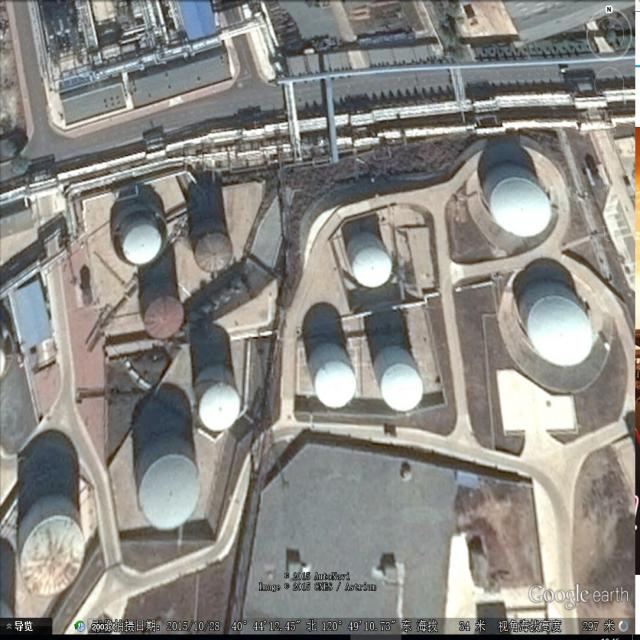oiltank: (513, 274, 598, 372), (13, 492, 88, 599), (133, 432, 204, 536), (476, 162, 556, 242), (368, 341, 428, 417), (306, 338, 361, 416), (190, 361, 245, 438), (135, 276, 188, 345), (343, 229, 398, 293), (116, 208, 169, 270), (186, 214, 236, 278)
